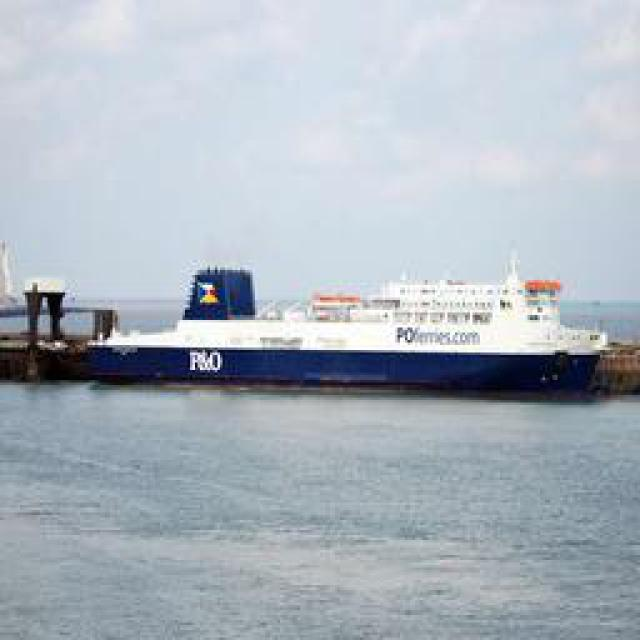Ship: (66, 254, 606, 394)
